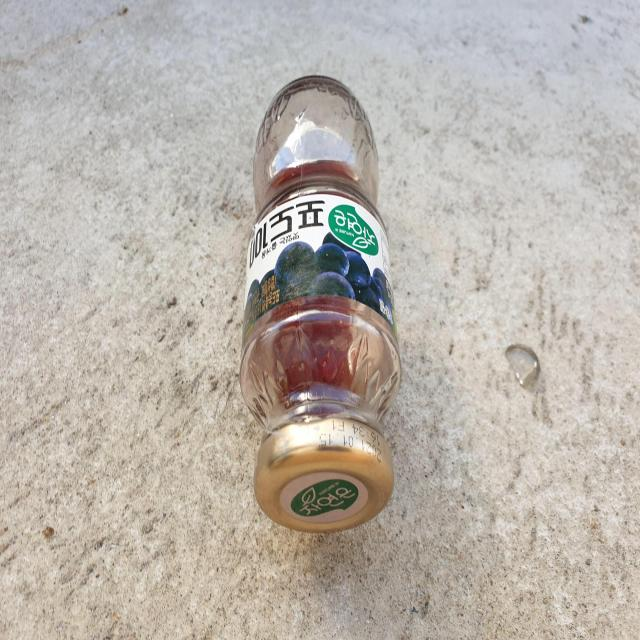glass: (240, 75, 402, 533)
